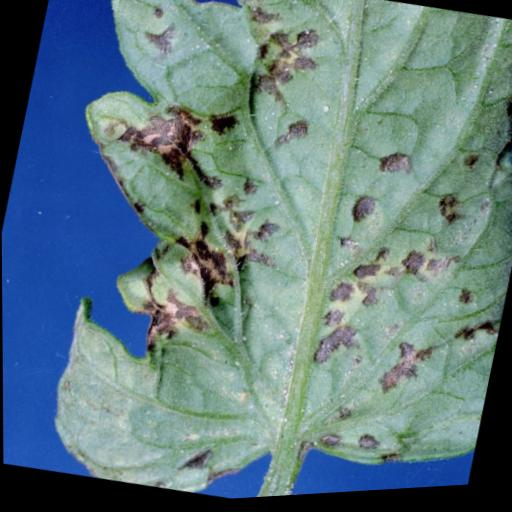Bacterial Spot: (5, 0, 512, 512)
